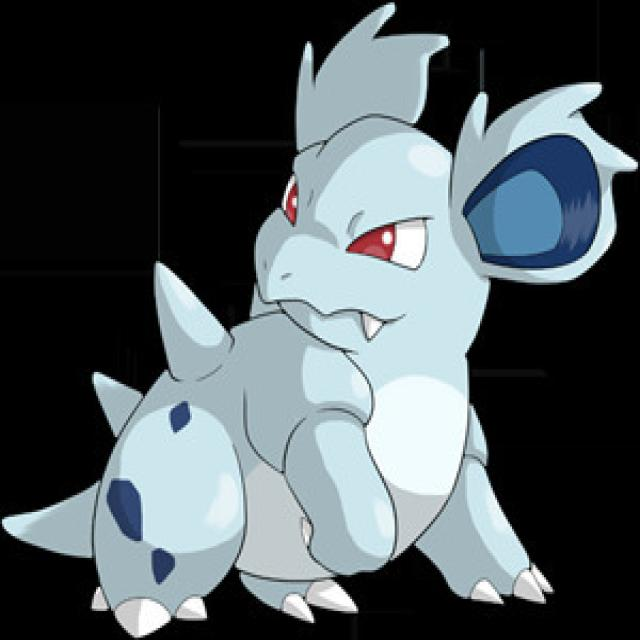Nidorina: (53, 19, 620, 640)
